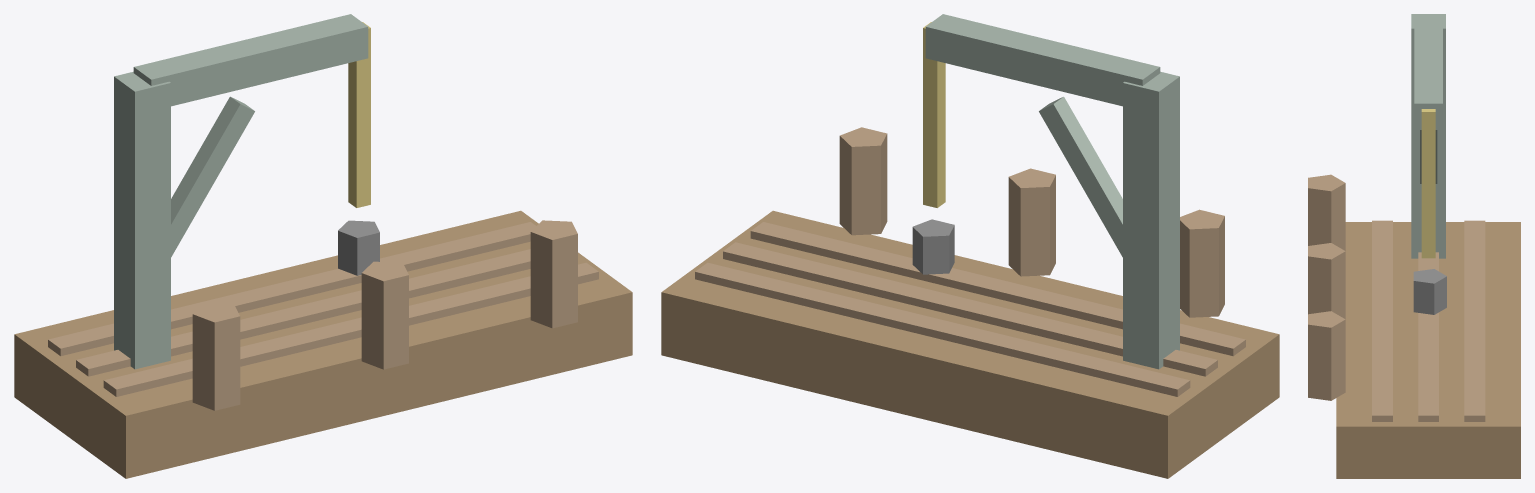
The model's file is building_harbor.glb.
The picture shows the model from 3 angles, left to right: view 1: azimuth 30°, elevation 25°; view 2: azimuth 150°, elevation 25°; view 3: azimuth 270°, elevation 25°; orthographic projection. The views are drawn at different scales.
Visible parts, largest first — view 1: building_harbor; view 2: building_harbor; view 3: building_harbor.
Part boxes in pixels (box(x1,y1,x2,y2)): building_harbor: box(14, 14, 632, 478); building_harbor: box(661, 14, 1279, 478); building_harbor: box(1308, 14, 1520, 478).
Bounding box in the file's own units: 0.42 × 0.275 × 0.1846.
